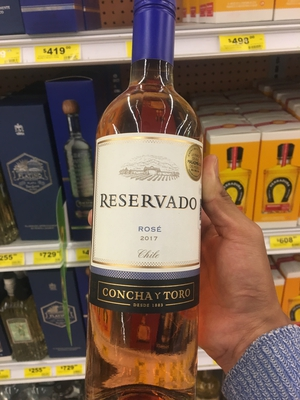reservado rose: (88, 15, 210, 400)
